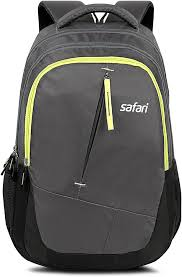backpack: (0, 0, 181, 271)
